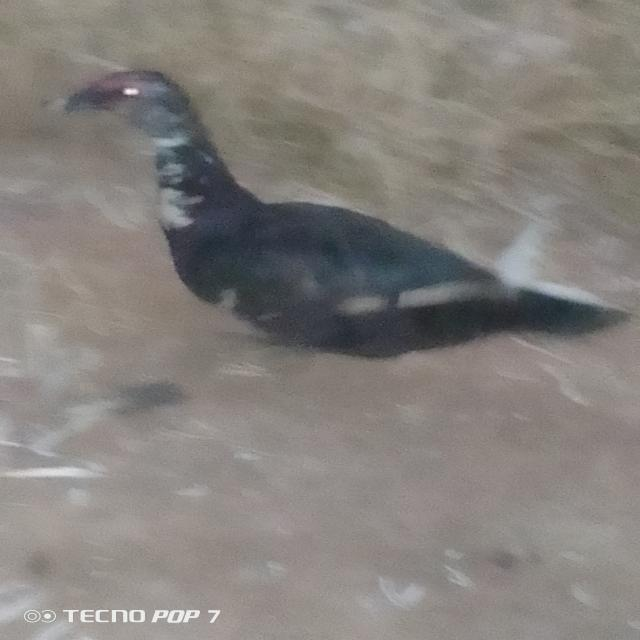pigeon: (8, 39, 640, 412)
